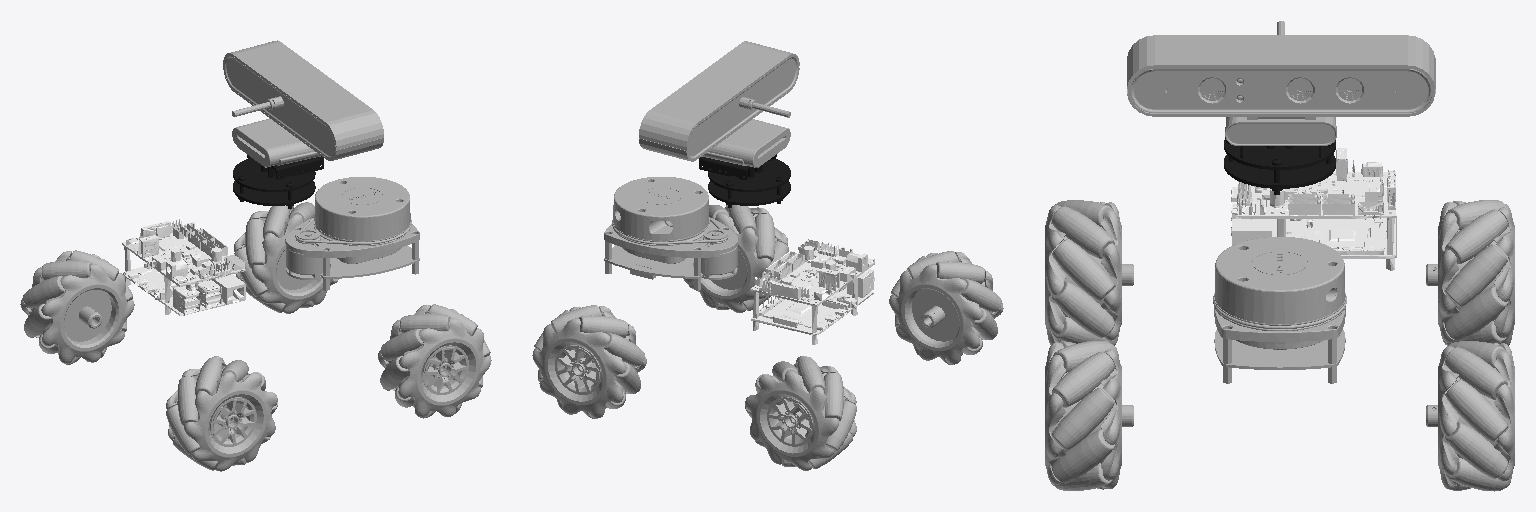
robot.urdf — yeahbot_c21_pi:
<?xml version="1.0" encoding="utf-8"?>
<!-- This URDF was automatically created by SolidWorks to URDF Exporter! Originally created by Stephen Brawner (brawner@gmail.com) 
     Commit Version: 1.6.0-4-g7f85cfe  Build Version: 1.6.7995.38578
     For more information, please see http://wiki.ros.org/sw_urdf_exporter -->
<robot
  name="yeahbot_c21_pi">
  <link
    name="base_link">
    <inertial>
      <origin
        xyz="-0.00201708248049406 -0.000517165622559546 0.0574620880275668"
        rpy="0 0 0" />
      <mass
        value="2.20298757920811" />
      <inertia
        ixx="0.00125831475576766"
        ixy="5.45518780345721E-06"
        ixz="7.37151149127403E-06"
        iyy="0.00164922314041332"
        iyz="-1.8894851651191E-06"
        izz="0.00245258635857651" />
    </inertial>
    <visual>
      <origin
        xyz="0 0 0"
        rpy="0 0 0" />
      <geometry>
        <mesh
          filename="package://car_urdf/meshes/yeahbot_c21_pi/base_link.STL" />
      </geometry>
      <material
        name="">
        <color
          rgba="0.411764705882353 0.411764705882353 0.411764705882353 1" />
      </material>
    </visual>
    <collision>
      <origin
        xyz="0 0 0"
        rpy="0 0 0" />
      <geometry>
        <mesh
          filename="package://car_urdf/meshes/yeahbot_c21_pi/base_link.STL" />
      </geometry>
    </collision>
  </link>
  <link
    name="imu_link">
    <inertial>
      <origin
        xyz="-1.24077427151592E-05 -0.00716717736537498 -0.010326432965284"
        rpy="0 0 0" />
      <mass
        value="0.0370499748531924" />
      <inertia
        ixx="9.48782215617797E-06"
        ixy="6.72090333991412E-09"
        ixz="7.80615146406467E-10"
        iyy="4.36544577953432E-06"
        iyz="5.84243702680309E-09"
        izz="1.33425192423164E-05" />
    </inertial>
    <visual>
      <origin
        xyz="0 0 0"
        rpy="0 0 0" />
      <geometry>
        <mesh
          filename="package://car_urdf/meshes/yeahbot_c21_pi/imu_link.STL" />
      </geometry>
      <material
        name="">
        <color
          rgba="1 1 1 1" />
      </material>
    </visual>
    <collision>
      <origin
        xyz="0 0 0"
        rpy="0 0 0" />
      <geometry>
        <mesh
          filename="package://car_urdf/meshes/yeahbot_c21_pi/imu_link.STL" />
      </geometry>
    </collision>
  </link>
  <joint
    name="imu_joint"
    type="fixed">
    <origin
      xyz="-0.0531224725067789 0.019602951558034 0.105986156972316"
      rpy="0 0 0" />
    <parent
      link="base_link" />
    <child
      link="imu_link" />
    <axis
      xyz="0 0 0" />
  </joint>
  <link
    name="lidar_link">
    <inertial>
      <origin
        xyz="0.0118343507191906 -0.000843971068699656 -0.00893784406972677"
        rpy="0 0 0" />
      <mass
        value="0.0789253203635774" />
      <inertia
        ixx="2.10517155072168E-05"
        ixy="-2.59801461019636E-08"
        ixz="-4.48833690552516E-07"
        iyy="2.503006323579E-05"
        iyz="1.55042425853387E-08"
        izz="4.37467459693848E-05" />
    </inertial>
    <visual>
      <origin
        xyz="0 0 0"
        rpy="0 0 0" />
      <geometry>
        <mesh
          filename="package://car_urdf/meshes/yeahbot_c21_pi/lidar_link.STL" />
      </geometry>
      <material
        name="">
        <color
          rgba="0.752941176470588 0.752941176470588 0.752941176470588 1" />
      </material>
    </visual>
    <collision>
      <origin
        xyz="0 0 0"
        rpy="0 0 0" />
      <geometry>
        <mesh
          filename="package://car_urdf/meshes/yeahbot_c21_pi/lidar_link.STL" />
      </geometry>
    </collision>
  </link>
  <joint
    name="lidar_joint"
    type="fixed">
    <origin
      xyz="0.085342995575516 -0.000107123052722424 0.108900000000002"
      rpy="0 0 3.14159265358979" />
    <parent
      link="base_link" />
    <child
      link="lidar_link" />
    <axis
      xyz="0 0 0" />
  </joint>
  <link
    name="screen_link">
    <inertial>
      <origin
        xyz="0.00441800744719006 0.000721098858298574 -0.00335521087898509"
        rpy="0 0 0" />
      <mass
        value="0.139070717624423" />
      <inertia
        ixx="0.0003945352527011"
        ixy="-1.35938752338478E-06"
        ixz="-5.94948036566472E-05"
        iyy="0.000127284840104322"
        iyz="-1.94140658191353E-06"
        izz="0.000351226577452035" />
    </inertial>
    <visual>
      <origin
        xyz="0 0 0"
        rpy="0 0 0" />
      <geometry>
        <mesh
          filename="package://car_urdf/meshes/yeahbot_c21_pi/screen_link.STL" />
      </geometry>
      <material
        name="">
        <color
          rgba="0.411764705882353 0.411764705882353 0.411764705882353 1" />
      </material>
    </visual>
    <collision>
      <origin
        xyz="0 0 0"
        rpy="0 0 0" />
      <geometry>
        <mesh
          filename="package://car_urdf/meshes/yeahbot_c21_pi/screen_link.STL" />
      </geometry>
    </collision>
  </link>
  <joint
    name="screen_joint"
    type="fixed">
    <origin
      xyz="-0.109554809534287 0 0.18196647176225"
      rpy="0 0 0" />
    <parent
      link="base_link" />
    <child
      link="screen_link" />
    <axis
      xyz="0 0 0" />
  </joint>
  <link
    name="arm_0_link">
    <inertial>
      <origin
        xyz="0.00134248416264109 5.37497959988142E-05 0.0114405790547569"
        rpy="0 0 0" />
      <mass
        value="0.0249962101268042" />
      <inertia
        ixx="3.54007034300196E-06"
        ixy="-8.57001445189149E-14"
        ixz="1.17941908325283E-09"
        iyy="3.22782846861974E-06"
        iyz="1.49435565717124E-15"
        izz="6.269755057348E-06" />
    </inertial>
    <visual>
      <origin
        xyz="0 0 0"
        rpy="0 0 0" />
      <geometry>
        <mesh
          filename="package://car_urdf/meshes/yeahbot_c21_pi/arm_0_link.STL" />
      </geometry>
      <material
        name="">
        <color
          rgba="0.149019607843137 0.149019607843137 0.149019607843137 1" />
      </material>
    </visual>
    <collision>
      <origin
        xyz="0 0 0"
        rpy="0 0 0" />
      <geometry>
        <mesh
          filename="package://car_urdf/meshes/yeahbot_c21_pi/arm_0_link.STL" />
      </geometry>
    </collision>
  </link>
  <joint
    name="arm_0_joint"
    type="revolute">
    <origin
      xyz="0.011222 0 0.1493"
      rpy="0 0 0" />
    <parent
      link="base_link" />
    <child
      link="arm_0_link" />
    <axis
      xyz="0 0 -1" />
    <limit
      lower="0.785"
      upper="-0.785"
      effort="100"
      velocity="1" />
  </joint>
  <link
    name="camera_link">
    <inertial>
      <origin
        xyz="-0.0217737507150947 0.000425391347005033 -0.00559166022223875"
        rpy="0 0 0" />
      <mass
        value="0.225785696474304" />
      <inertia
        ixx="0.000408639437053481"
        ixy="3.04590104410847E-08"
        ixz="8.89329488347714E-08"
        iyy="4.93915099294842E-05"
        iyz="-3.95865740282863E-09"
        izz="0.000430299434582024" />
    </inertial>
    <visual>
      <origin
        xyz="0 0 0"
        rpy="0 0 0" />
      <geometry>
        <mesh
          filename="package://car_urdf/meshes/yeahbot_c21_pi/camera_link.STL" />
      </geometry>
      <material
        name="">
        <color
          rgba="0.752941176470588 0.752941176470588 0.752941176470588 1" />
      </material>
    </visual>
    <collision>
      <origin
        xyz="0 0 0"
        rpy="0 0 0" />
      <geometry>
        <mesh
          filename="package://car_urdf/meshes/yeahbot_c21_pi/camera_link.STL" />
      </geometry>
    </collision>
  </link>
  <joint
    name="camera_joint"
    type="fixed">
    <origin
      xyz="0.0441052595665885 0.000172001936224742 0.0681449488553636"
      rpy="0 0 0" />
    <parent
      link="arm_0_link" />
    <child
      link="camera_link" />
    <axis
      xyz="0 0 0" />
  </joint>
  <link
    name="wheel_lf_link">
    <inertial>
      <origin
        xyz="1.02205402835454E-07 -0.0109640157341354 -4.52802860526069E-07"
        rpy="0 0 0" />
      <mass
        value="0.149720169073326" />
      <inertia
        ixx="6.8397294914088E-05"
        ixy="1.24963769591879E-11"
        ixz="5.68757400845442E-10"
        iyy="0.000109193414887083"
        iyz="-5.04349519188193E-10"
        izz="6.84002090632343E-05" />
    </inertial>
    <visual>
      <origin
        xyz="0 0 0"
        rpy="0 0 0" />
      <geometry>
        <mesh
          filename="package://car_urdf/meshes/yeahbot_c21_pi/wheel_lf_link.STL" />
      </geometry>
      <material
        name="">
        <color
          rgba="0.752941176470588 0.752941176470588 0.752941176470588 1" />
      </material>
    </visual>
    <collision>
      <origin
        xyz="0 0 0"
        rpy="0 0 0" />
      <geometry>
        <mesh
          filename="package://car_urdf/meshes/yeahbot_c21_pi/wheel_lf_link.STL" />
      </geometry>
    </collision>
  </link>
  <joint
    name="wheel_lf_joint"
    type="continuous">
    <origin
      xyz="0.084765 0.11633 0.0393"
      rpy="0 0 0" />
    <parent
      link="base_link" />
    <child
      link="wheel_lf_link" />
    <axis
      xyz="0 1 0" />
    <limit
      lower="3.14"
      upper="-3.14"
      effort="100"
      velocity="1" />
  </joint>
  <link
    name="wheel_rf_link">
    <inertial>
      <origin
        xyz="2.35543067869659E-07 0.0109641912903501 3.48178443333735E-07"
        rpy="0 0 0" />
      <mass
        value="0.149717148628034" />
      <inertia
        ixx="6.83967465049843E-05"
        ixy="-4.91979625838277E-10"
        ixz="2.94273450633899E-10"
        iyy="0.000109188700101397"
        iyz="-6.20465094946149E-10"
        izz="6.83967026899844E-05" />
    </inertial>
    <visual>
      <origin
        xyz="0 0 0"
        rpy="0 0 0" />
      <geometry>
        <mesh
          filename="package://car_urdf/meshes/yeahbot_c21_pi/wheel_rf_link.STL" />
      </geometry>
      <material
        name="">
        <color
          rgba="0.752941176470588 0.752941176470588 0.752941176470588 1" />
      </material>
    </visual>
    <collision>
      <origin
        xyz="0 0 0"
        rpy="0 0 0" />
      <geometry>
        <mesh
          filename="package://car_urdf/meshes/yeahbot_c21_pi/wheel_rf_link.STL" />
      </geometry>
    </collision>
  </link>
  <joint
    name="wheel_rf_joint"
    type="continuous">
    <origin
      xyz="0.084765 -0.11633 0.0393"
      rpy="0 0 0" />
    <parent
      link="base_link" />
    <child
      link="wheel_rf_link" />
    <axis
      xyz="0 1 0" />
    <limit
      lower="3.14"
      upper="-3.14"
      effort="100"
      velocity="1" />
  </joint>
  <link
    name="wheel_lb_link">
    <inertial>
      <origin
        xyz="-2.72972162859708E-07 -0.0109641896498985 -3.45282314254125E-07"
        rpy="0 0 0" />
      <mass
        value="0.149717186499215" />
      <inertia
        ixx="6.83965592857652E-05"
        ixy="-4.67908491184829E-10"
        ixz="2.28982918059817E-10"
        iyy="0.000109188713772428"
        iyz="-6.41854054411219E-10"
        izz="6.83969236052175E-05" />
    </inertial>
    <visual>
      <origin
        xyz="0 0 0"
        rpy="0 0 0" />
      <geometry>
        <mesh
          filename="package://car_urdf/meshes/yeahbot_c21_pi/wheel_lb_link.STL" />
      </geometry>
      <material
        name="">
        <color
          rgba="0.752941176470588 0.752941176470588 0.752941176470588 1" />
      </material>
    </visual>
    <collision>
      <origin
        xyz="0 0 0"
        rpy="0 0 0" />
      <geometry>
        <mesh
          filename="package://car_urdf/meshes/yeahbot_c21_pi/wheel_lb_link.STL" />
      </geometry>
    </collision>
  </link>
  <joint
    name="wheel_lb_joint"
    type="continuous">
    <origin
      xyz="-0.093228 0.11633 0.0393"
      rpy="0 0 0" />
    <parent
      link="base_link" />
    <child
      link="wheel_lb_link" />
    <axis
      xyz="0 1 0" />
    <limit
      lower="3.14"
      upper="-3.14"
      effort="100"
      velocity="1" />
  </joint>
  <link
    name="wheel_rb_link">
    <inertial>
      <origin
        xyz="-1.02185122058396E-07 0.01096401573409 -4.528072005891E-07"
        rpy="0 0 0" />
      <mass
        value="0.149720169073934" />
      <inertia
        ixx="6.83972949244701E-05"
        ixy="1.25204826150917E-11"
        ixz="-5.68734324525541E-10"
        iyy="0.000109193414887782"
        iyz="5.04343934482516E-10"
        izz="6.84002090537243E-05" />
    </inertial>
    <visual>
      <origin
        xyz="0 0 0"
        rpy="0 0 0" />
      <geometry>
        <mesh
          filename="package://car_urdf/meshes/yeahbot_c21_pi/wheel_rb_link.STL" />
      </geometry>
      <material
        name="">
        <color
          rgba="0.752941176470588 0.752941176470588 0.752941176470588 1" />
      </material>
    </visual>
    <collision>
      <origin
        xyz="0 0 0"
        rpy="0 0 0" />
      <geometry>
        <mesh
          filename="package://car_urdf/meshes/yeahbot_c21_pi/wheel_rb_link.STL" />
      </geometry>
    </collision>
  </link>
  <joint
    name="wheel_rb_joint"
    type="continuous">
    <origin
      xyz="-0.0932277713644018 -0.116333333333 0.0392999937123047"
      rpy="0 0 0" />
    <parent
      link="base_link" />
    <child
      link="wheel_rb_link" />
    <axis
      xyz="0 1 0" />
    <limit
      lower="3.14"
      upper="-3.14"
      effort="100"
      velocity="1" />
  </joint>
</robot>

--- Render facts (derived) ---
3 views of the same robot in one strip: view 1: azimuth 30°, elevation 25°; view 2: azimuth 150°, elevation 25°; view 3: azimuth 270°, elevation 25° (orthographic).
Robot: yeahbot_c21_pi — 10 links, 9 joints (1 revolute, 4 continuous, 4 fixed); root link base_link; default pose: all joints at 0.
Links seen in each view (by area): view 1: camera_link, lidar_link, wheel_rb_link, wheel_rf_link, wheel_lb_link, imu_link, wheel_lf_link, arm_0_link; view 2: camera_link, lidar_link, wheel_lb_link, wheel_rb_link, wheel_lf_link, imu_link, wheel_rf_link, arm_0_link; view 3: camera_link, lidar_link, imu_link, wheel_rf_link, wheel_lf_link, wheel_lb_link, wheel_rb_link, arm_0_link.
Link boxes in pixels (x1,y1,x2,y2): camera_link: (223,40,383,167); lidar_link: (285,177,419,290); wheel_rb_link: (166,356,277,471); wheel_rf_link: (378,304,491,418); wheel_lb_link: (20,250,134,364); imu_link: (122,219,245,315); wheel_lf_link: (234,202,338,313); arm_0_link: (233,155,323,208); camera_link: (639,41,799,167); lidar_link: (604,177,737,290); wheel_lb_link: (745,356,856,470); wheel_rb_link: (889,251,1003,364); wheel_lf_link: (532,305,646,418); imu_link: (750,239,874,344); wheel_rf_link: (683,205,788,312); arm_0_link: (699,154,790,207); camera_link: (1127,21,1435,145); lidar_link: (1213,237,1346,383); imu_link: (1231,148,1396,270); wheel_rf_link: (1045,341,1133,490); wheel_lf_link: (1426,341,1514,491); wheel_lb_link: (1426,200,1514,345); wheel_rb_link: (1045,200,1133,345); arm_0_link: (1224,137,1335,194).
Bounding box of the posed robot: 0.2586 × 0.251 × 0.2334 m (x, y, z).
Meshes: 10 distinct files referenced, 8 mesh visuals loaded (8 binary STL); not drawn: 2 (reference not matched to a file when rendering).
